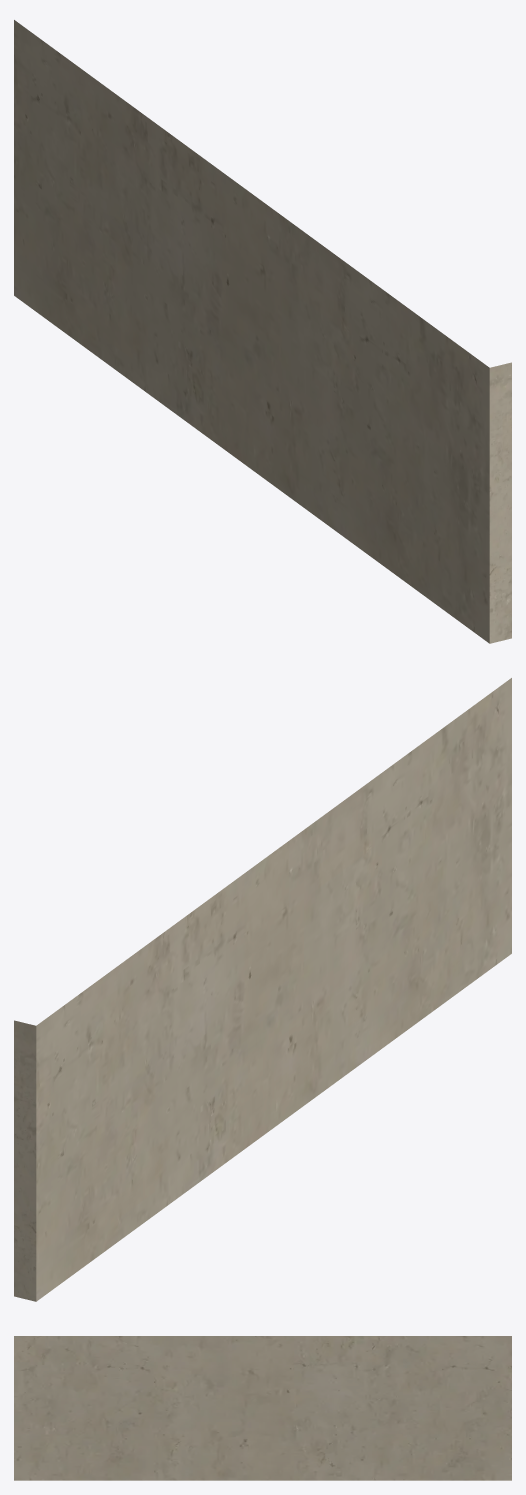
File: SM___cef0ba.glb
3 views of the same model, one above another, from view 1: azimuth 30°, elevation 25°; view 2: azimuth 150°, elevation 25°; view 3: azimuth 270°, elevation 25° (orthographic). The views are drawn at different scales.
Visible parts, largest first — view 1: SM_墙; view 2: SM_墙; view 3: SM_墙.
Boxes of the visible parts, x1,y1,x2,y2 form: SM_墙: (14,20,511,643); SM_墙: (14,678,511,1301); SM_墙: (14,1336,511,1480).
Size of the model in its own units: 0.1998 by 2.37 by 7.4.
Materials: 1 (1 with a texture image).
